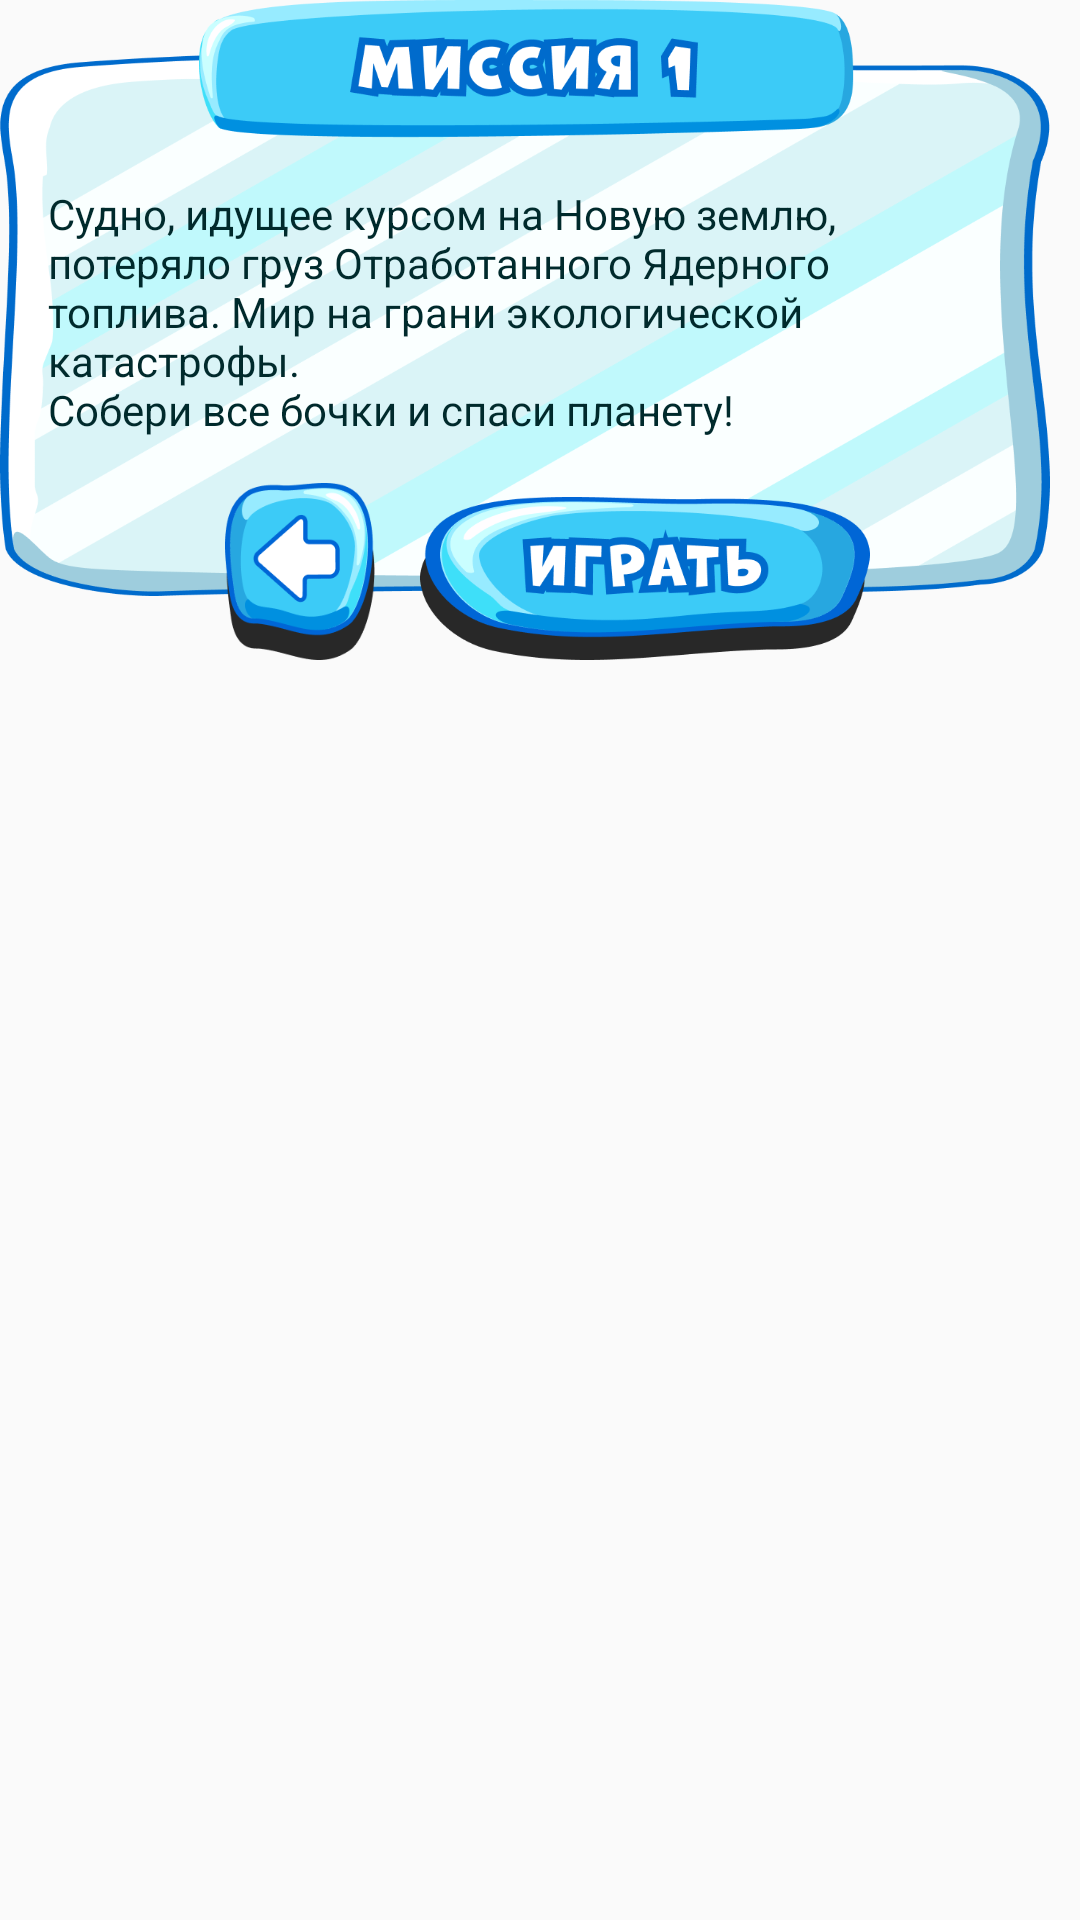

Icons on this 1080px×1920px Android screen, each with the point to tap as (x=x, y=y):
back: (x=300, y=571)
